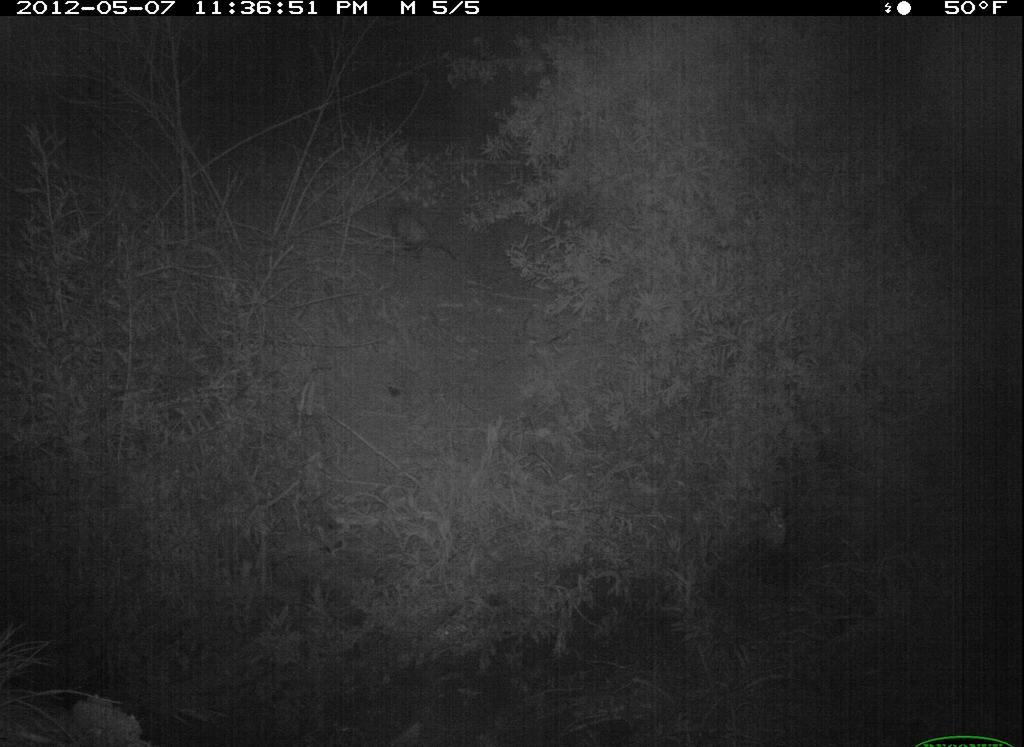opossum: (378, 198, 469, 268)
